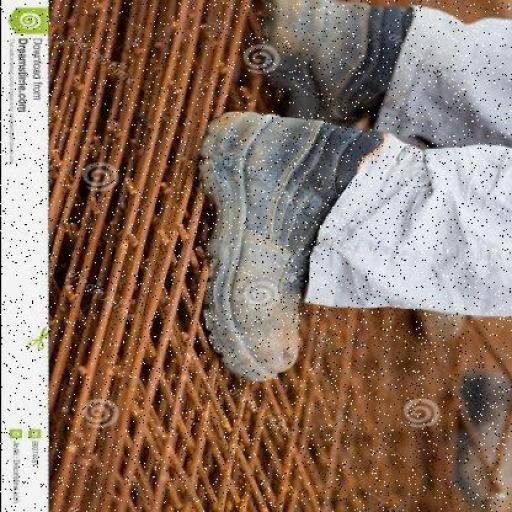safety_shoe: (194, 123, 371, 375), (245, 0, 417, 128)
